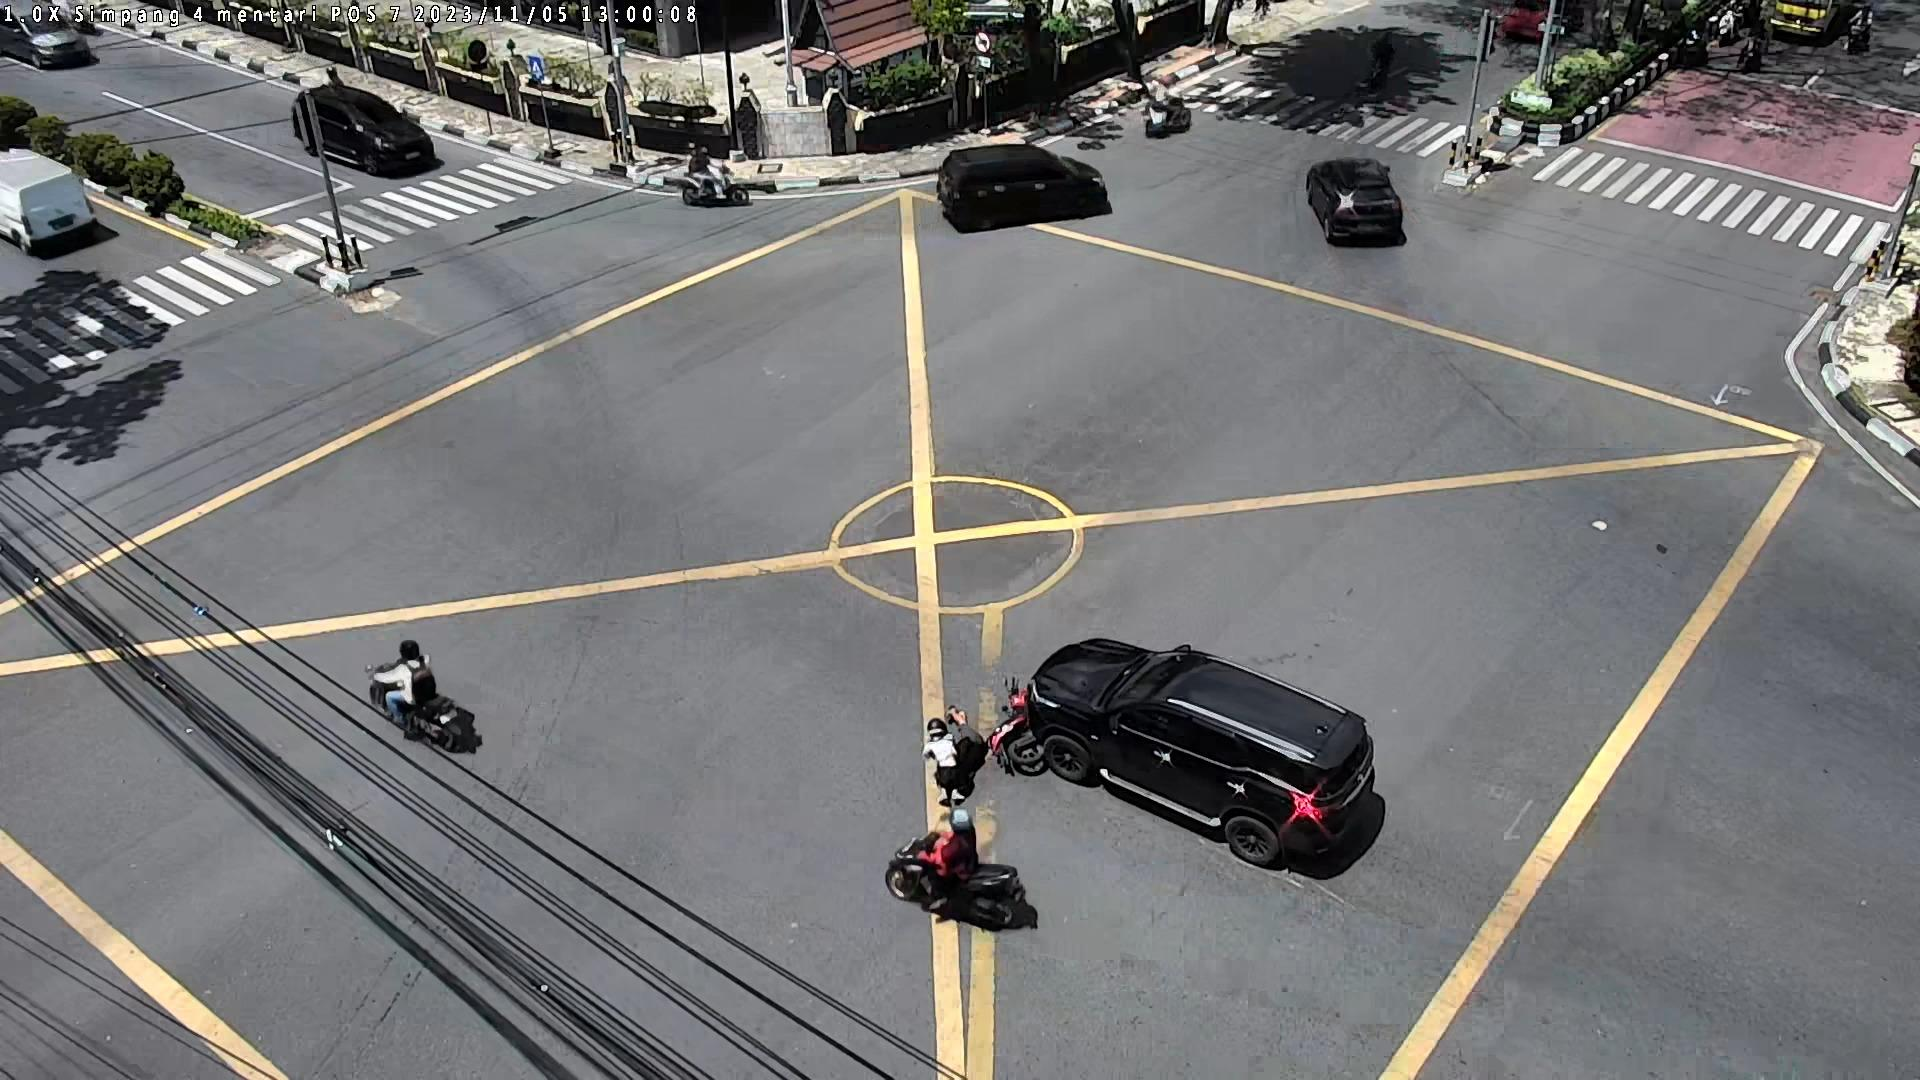accident: (943, 705, 986, 802), (923, 716, 964, 804)
